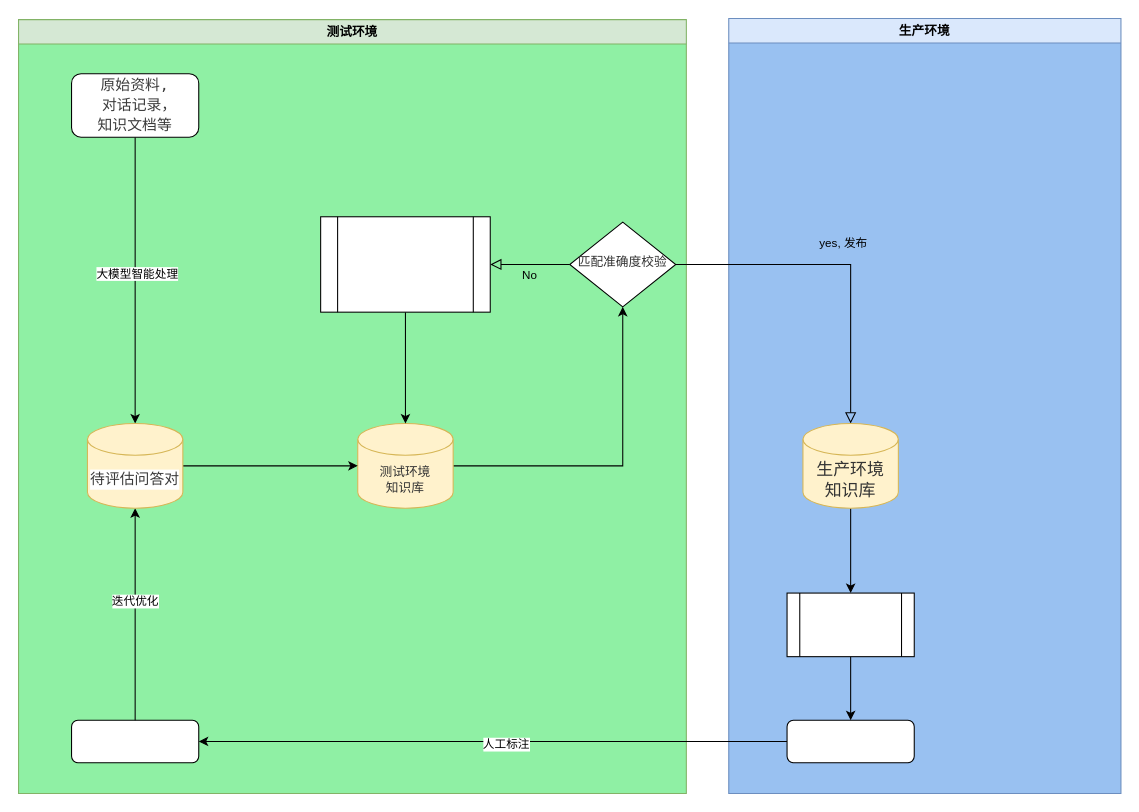
The diagram is 1139 pixels wide and 812 high, and some of its shapes have lost their labels. The shapes that lost their labels are listed below. From the top down, each one's centre as x and y in pixels, then its label:
At [405,264]: "知识查重 知识挖掘 混淆度消除 等等调优工具".
At [850,624]: "满意度调查 用户反馈问题 系统自动标记".
At [134,741]: "缺陷问题库".
At [850,741]: "缺陷对话库".
